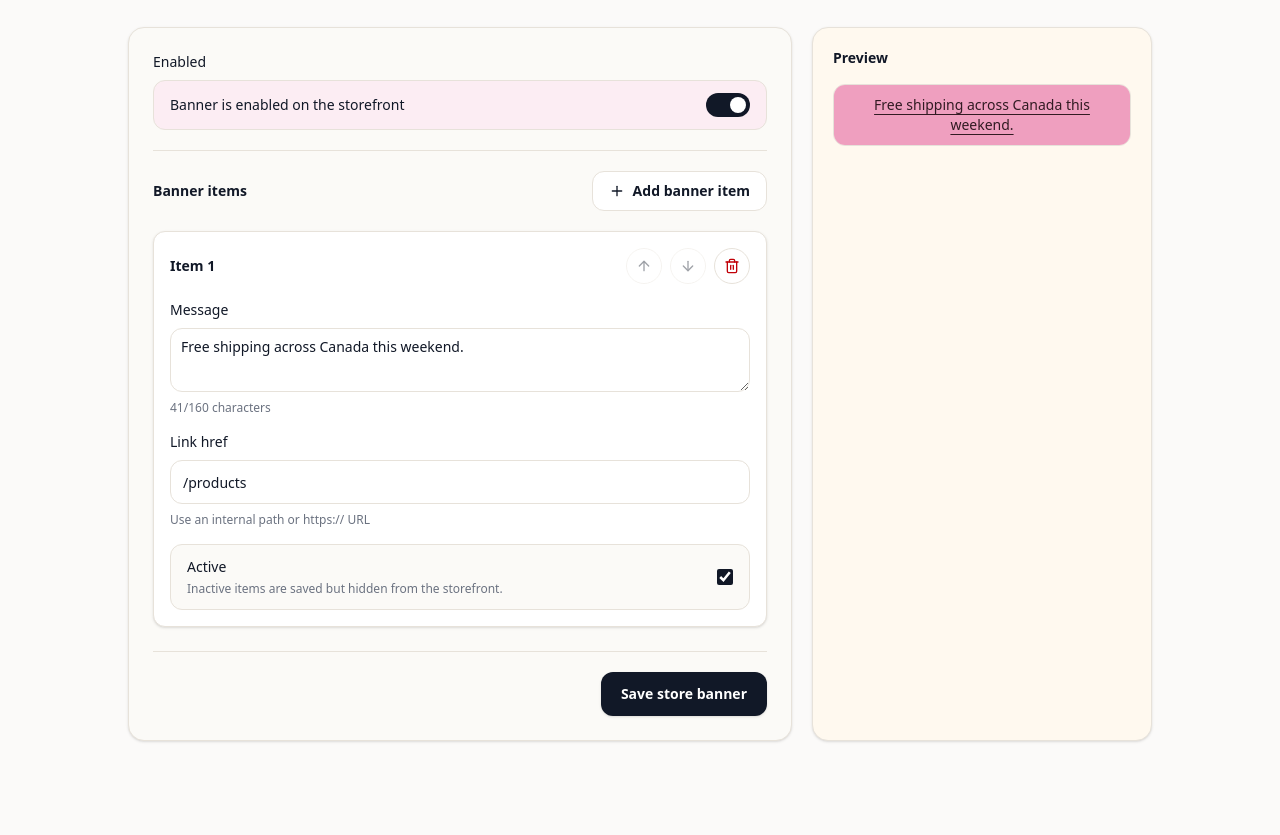
Test: AdminStoreBannerSettingsPage › adds a new banner item
The width and height of the screenshot is (1280, 835).
expect the text box labelled "Message" is shown: met, box [170,328,750,392]
Click the button "Add banner item".
click(679, 191)  # box [592,171,767,211]
(page scrolled)
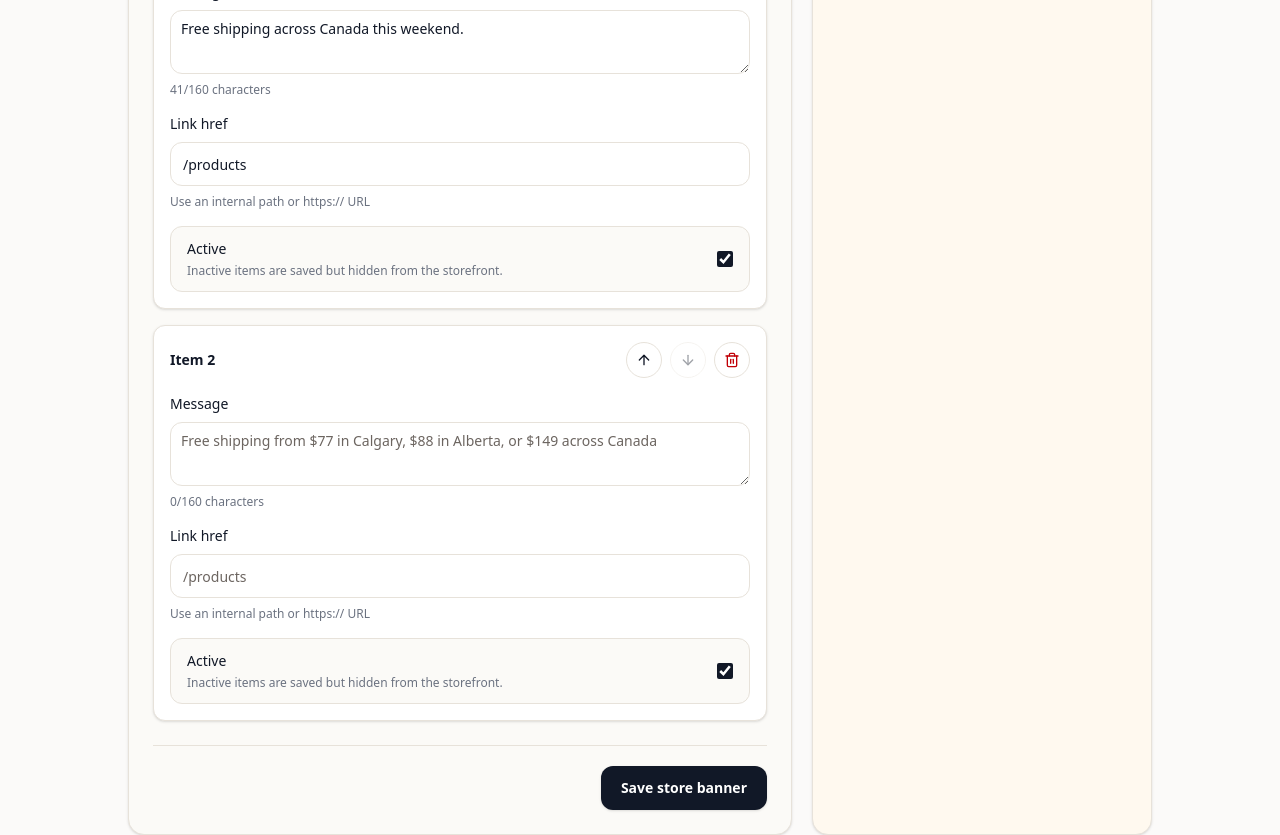
expect the number of text boxes labelled "Message" is 2: met, box [170,10,750,74]; [170,422,750,486]
expect the 2nd checkbox is checked: met, box [717,663,733,679]
